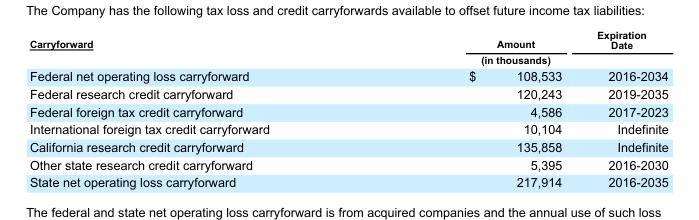table: (28, 28, 667, 188)
table column: (28, 28, 368, 188), (368, 28, 578, 188), (578, 28, 667, 188)
table column header: (28, 28, 667, 67)
table row: (28, 28, 667, 67), (28, 84, 667, 102), (28, 119, 667, 137), (28, 137, 667, 155), (28, 155, 667, 173), (28, 67, 667, 84), (28, 102, 667, 119), (28, 173, 667, 188)
